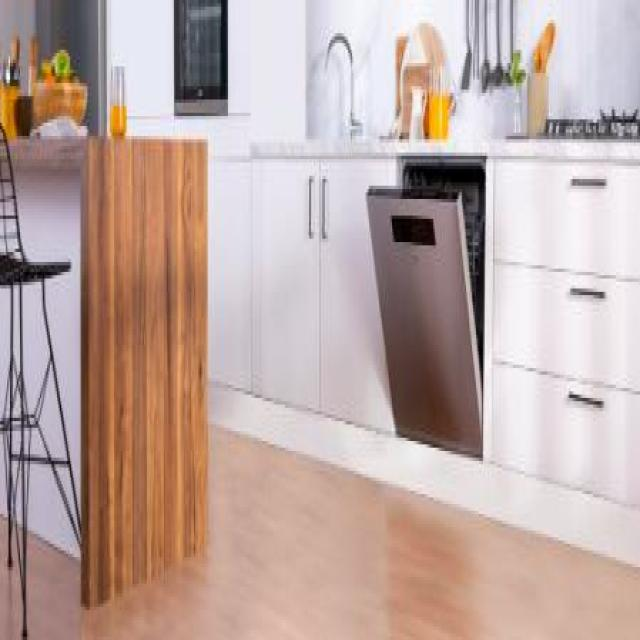dishwasher: (364, 146, 484, 458)
